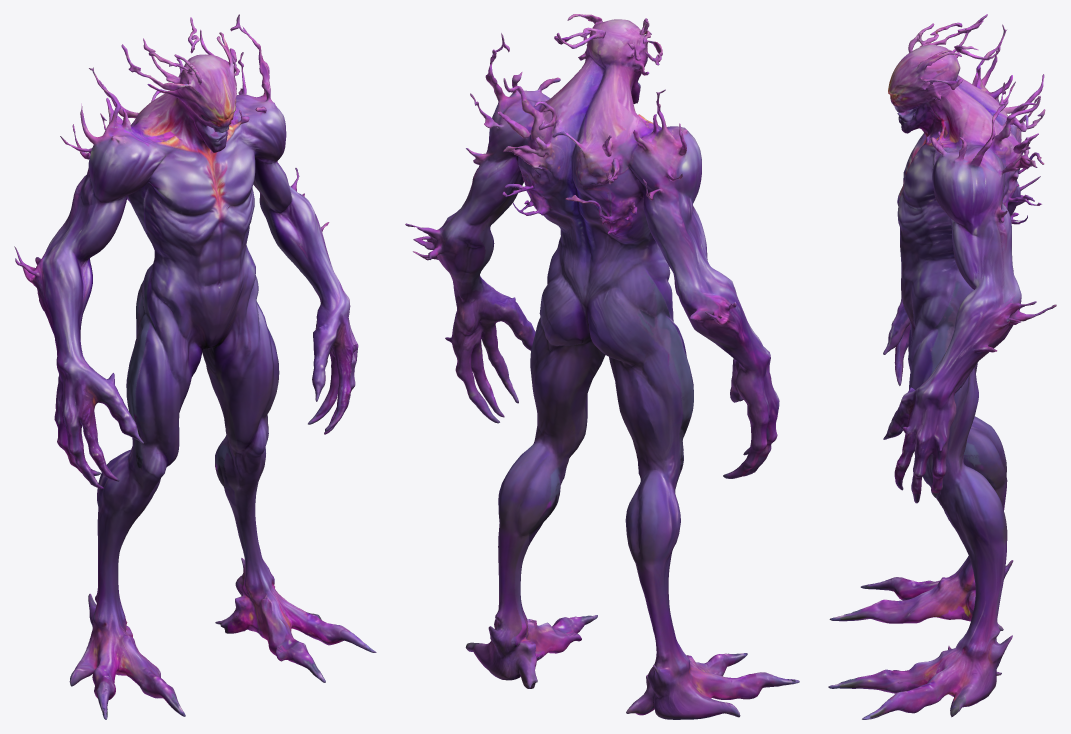
File: Meshy_AI_Nightshade_Specter_1115233009_texture.glb
The picture shows the model from 3 angles, left to right: view 1: azimuth 30°, elevation 25°; view 2: azimuth 150°, elevation 25°; view 3: azimuth 270°, elevation 25°; orthographic projection. The views are drawn at different scales.
Bounding box in the file's own units: 1 × 1.93 × 0.6435.
1 material, 1 textured.
